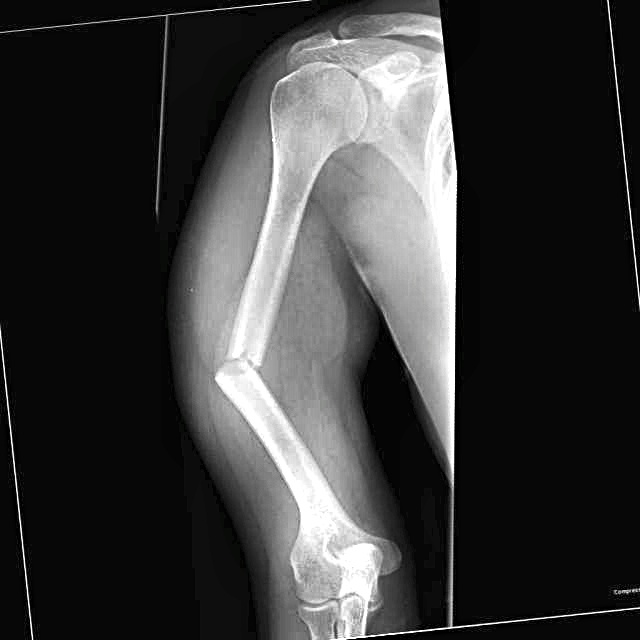Transverse: (201, 330, 274, 409)
